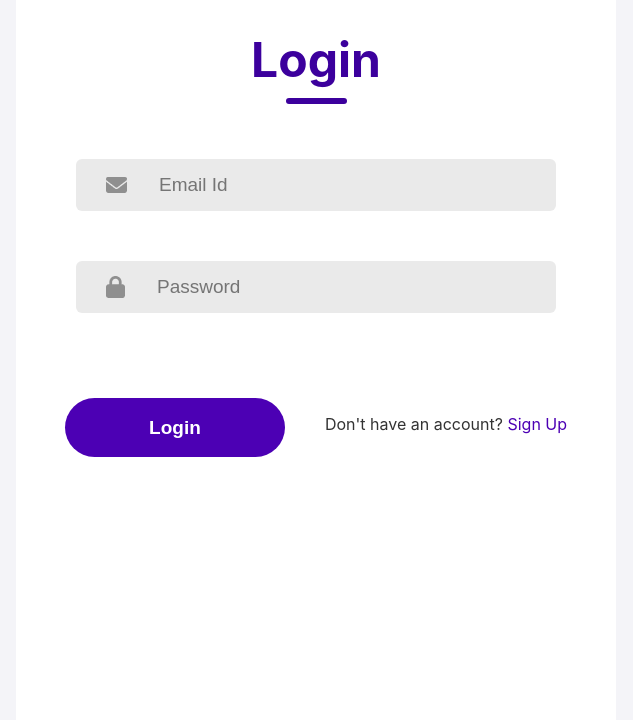
Scenario: Login Component Tests › validates password length on submission attempt
The image size is (633, 720).
Type "123" into the password field with placeholder "Password" at (356, 287), box [155, 261, 556, 313]
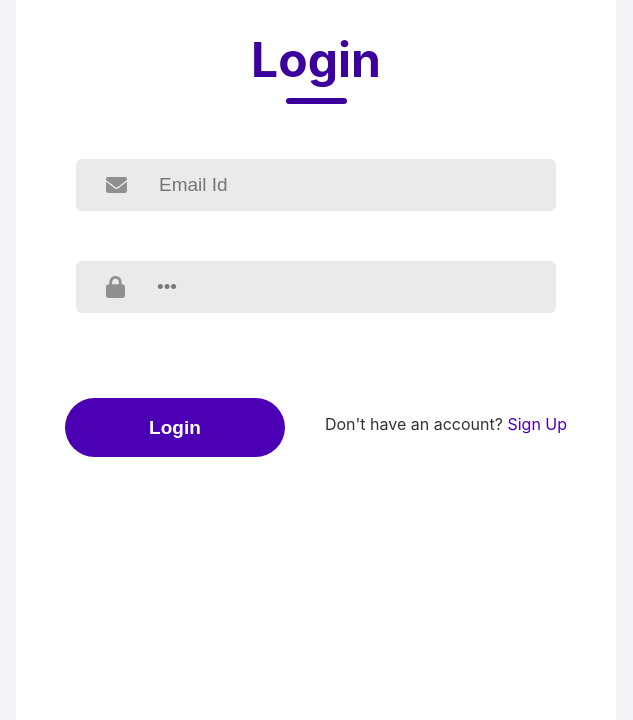
Click the button "Login" at (175, 428), box [65, 398, 285, 457]
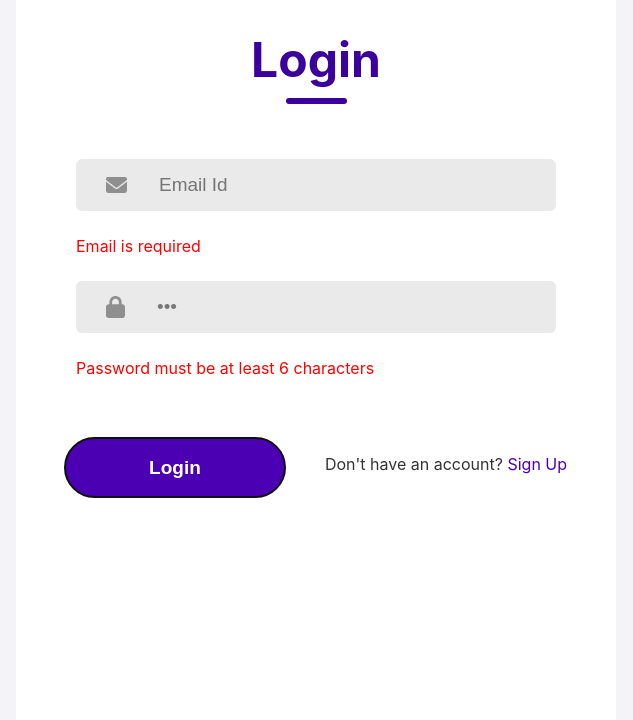
Result: the text "Password must be at least 6 characters" is shown at [76, 358, 374, 378]
